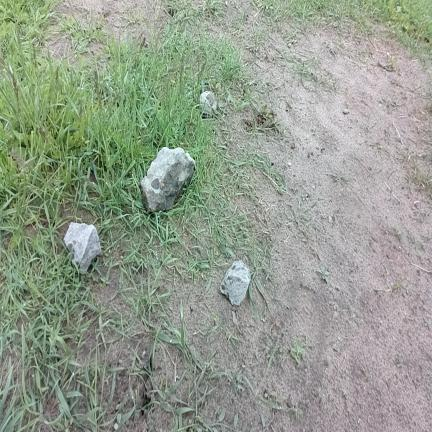Rock: (141, 147, 195, 211), (64, 223, 101, 274), (221, 261, 250, 305), (200, 91, 216, 117)
